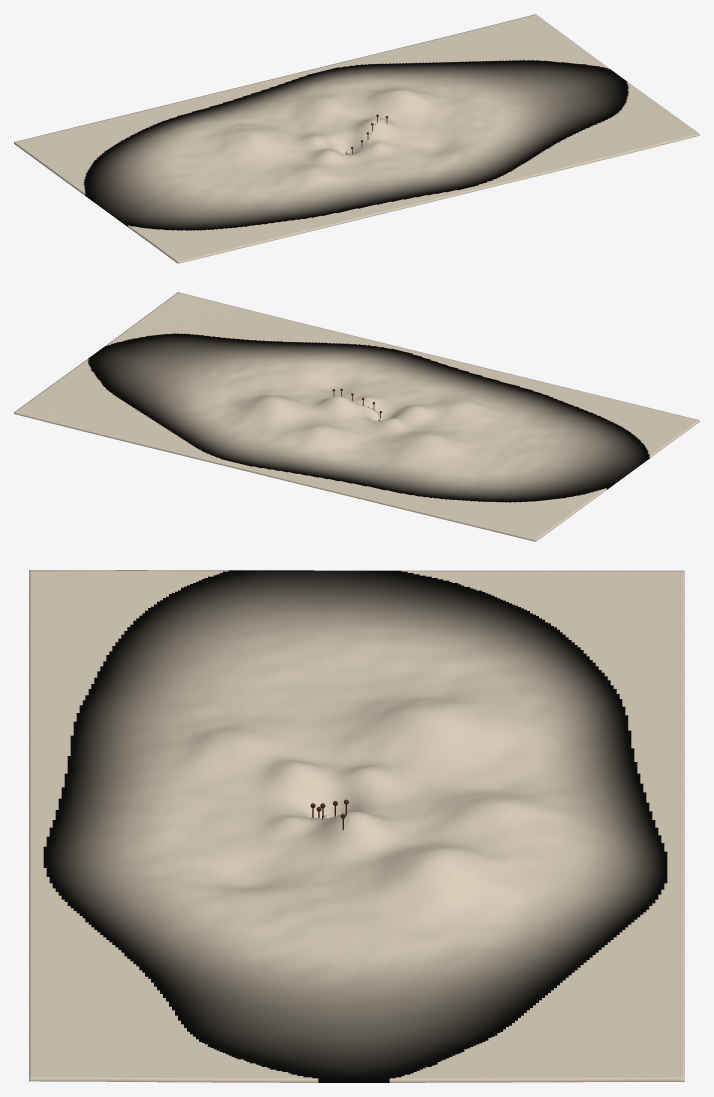
The model's file is loss-baked.glb.
3 renders of one model, top to bottom at view 1: azimuth 30°, elevation 25°; view 2: azimuth 150°, elevation 25°; view 3: azimuth 270°, elevation 25°, orthographic. The views are drawn at different scales.
Visible parts, largest first — view 1: ground_loss; view 2: ground_loss; view 3: ground_loss.
Part boxes in pixels (box(x1,y1,x2,y2)): ground_loss: box(14, 14, 699, 263); ground_loss: box(14, 292, 699, 541); ground_loss: box(29, 570, 684, 1082).
Size of the model in its own units: 40.4 by 2.18 by 22.
6 materials, 6 textured.
